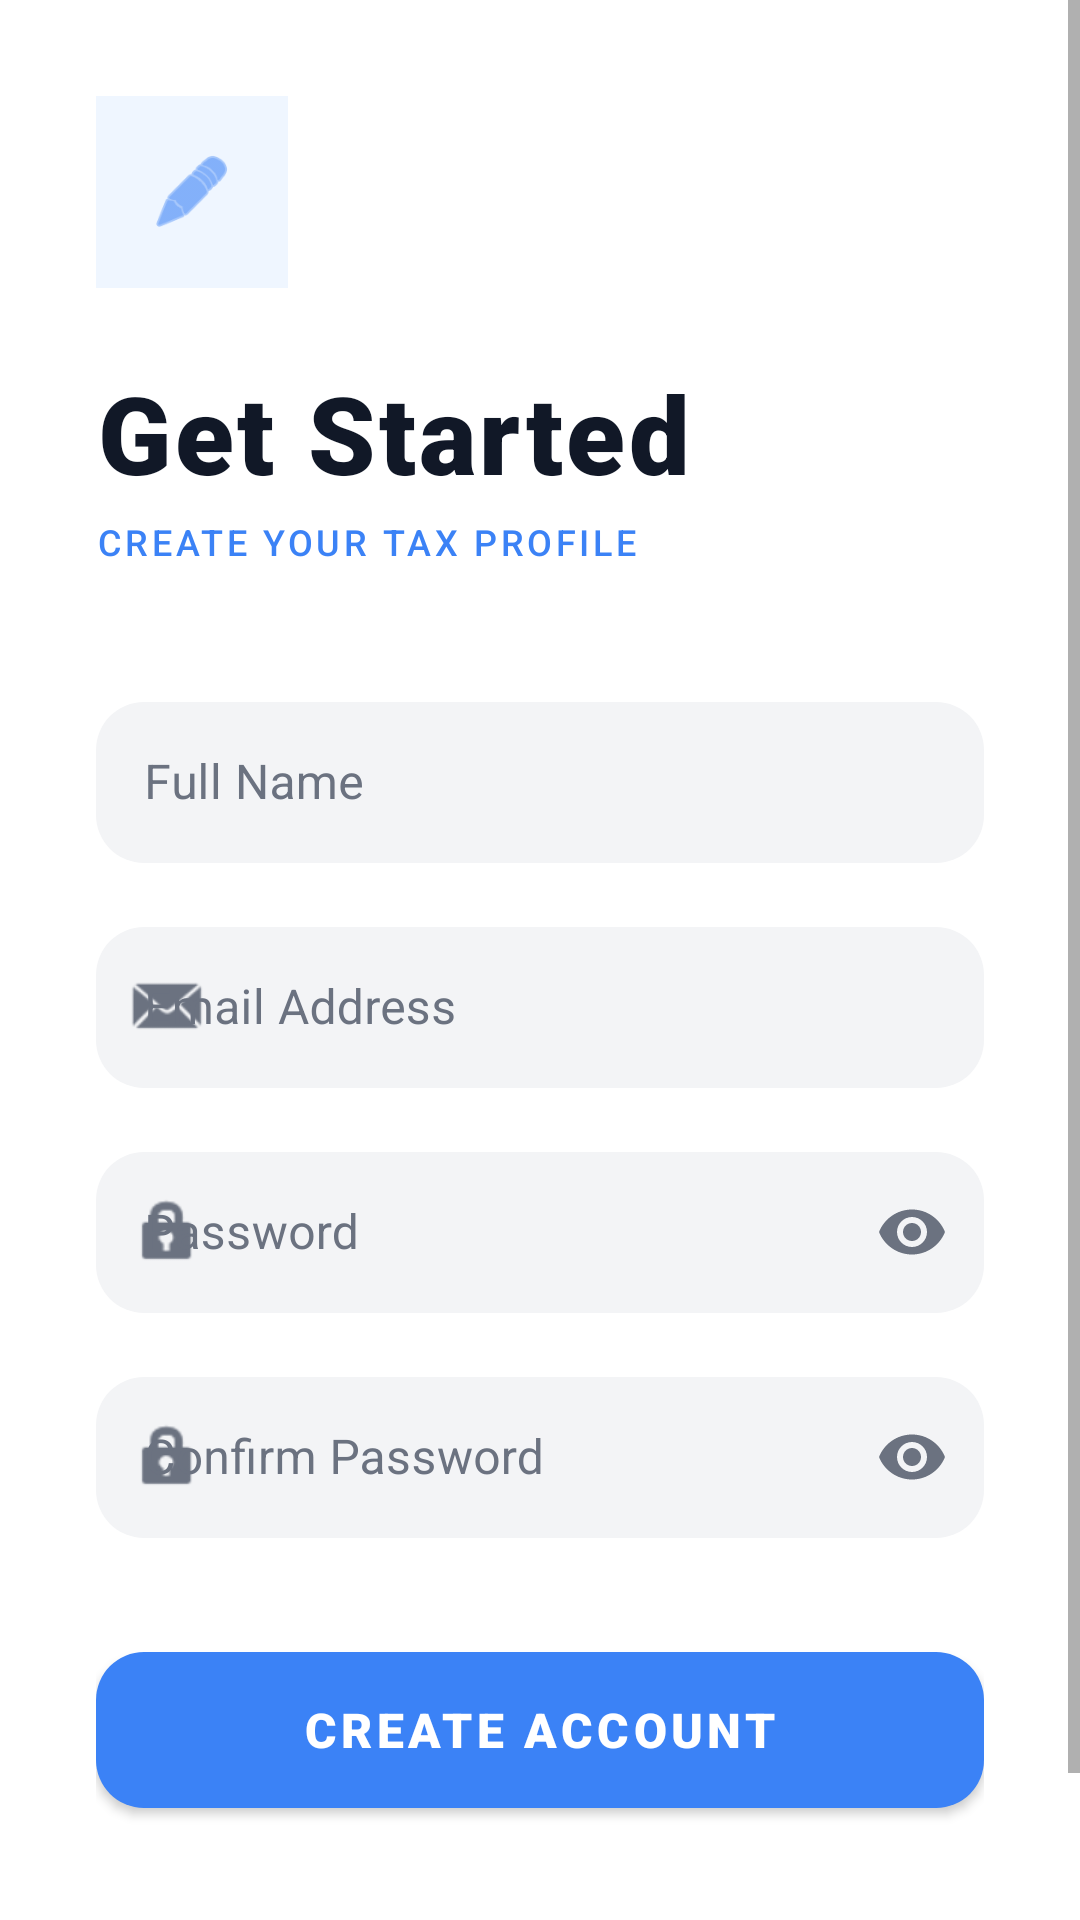

Point at icon controls on the screen. Image size 1080px x 1920px, points as (x,y).
edit: (191,191)
